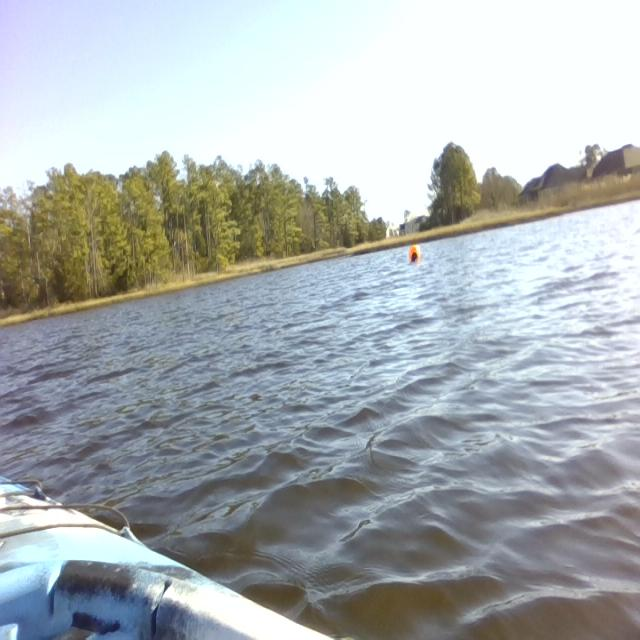Buoy: (403, 238, 433, 269)
